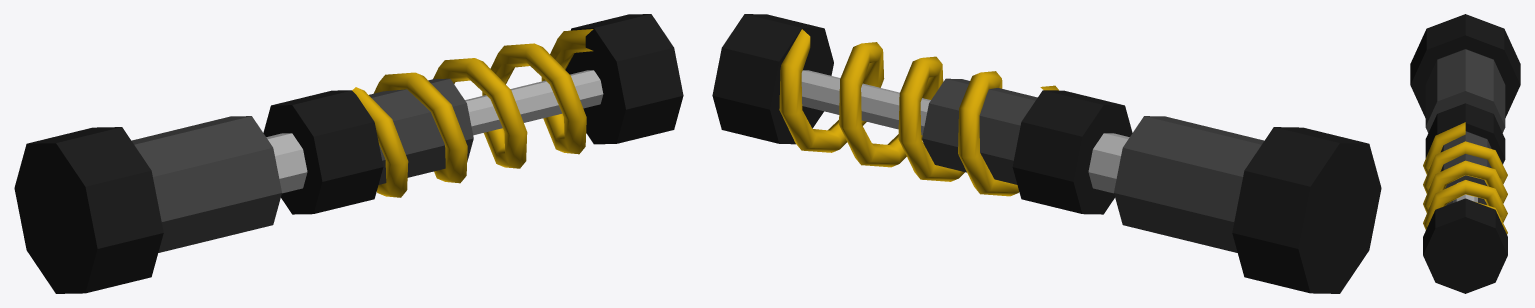
Rendered from RecoilBuffer_3D.glb.
3 views of the same model, side by side, from view 1: azimuth 30°, elevation 25°; view 2: azimuth 150°, elevation 25°; view 3: azimuth 270°, elevation 25° (orthographic). The views are drawn at different scales.
Parts seen in each view (by area): view 1: Cube; view 2: Cube; view 3: Cube.
Part boxes in pixels (bbox=[...]): Cube: bbox=[14, 14, 683, 293]; Cube: bbox=[712, 14, 1381, 293]; Cube: bbox=[1410, 14, 1520, 293].
Bounding box in the file's own units: 0.2214 × 0.0536 × 0.0536.
1 material, 1 textured.
